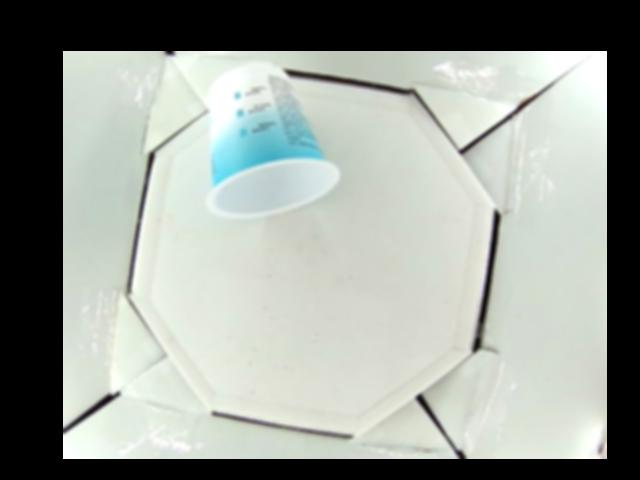Cup: (204, 60, 340, 221)
